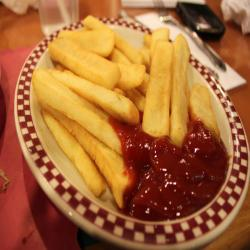fries: (31, 13, 232, 211)
